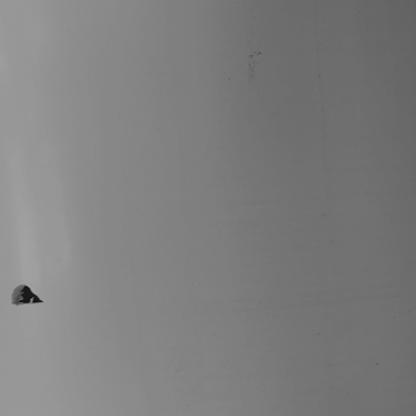kongdong: (3, 280, 53, 311)
